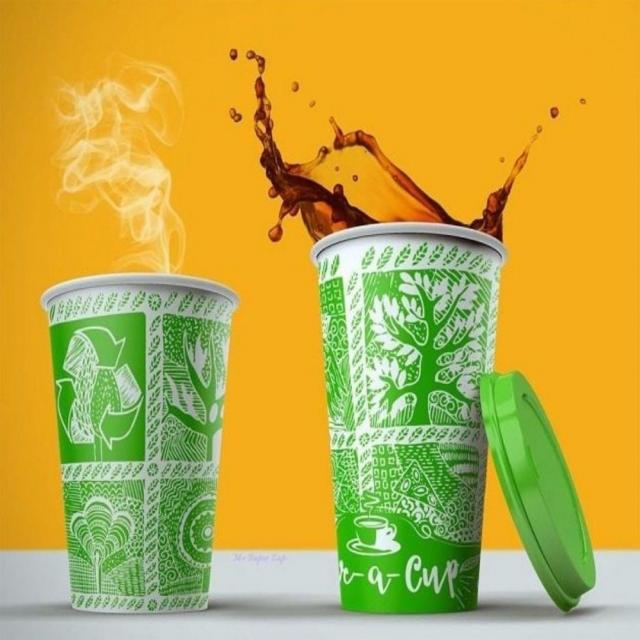cup-disposable: (307, 212, 508, 619), (36, 264, 245, 621)
